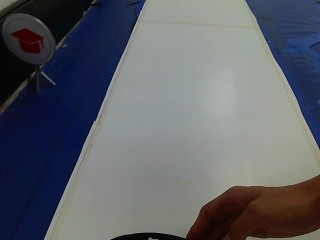school: (0, 11, 56, 68)
